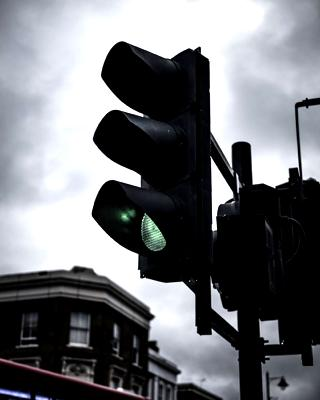International Road Signal Light: (92, 44, 206, 281)
